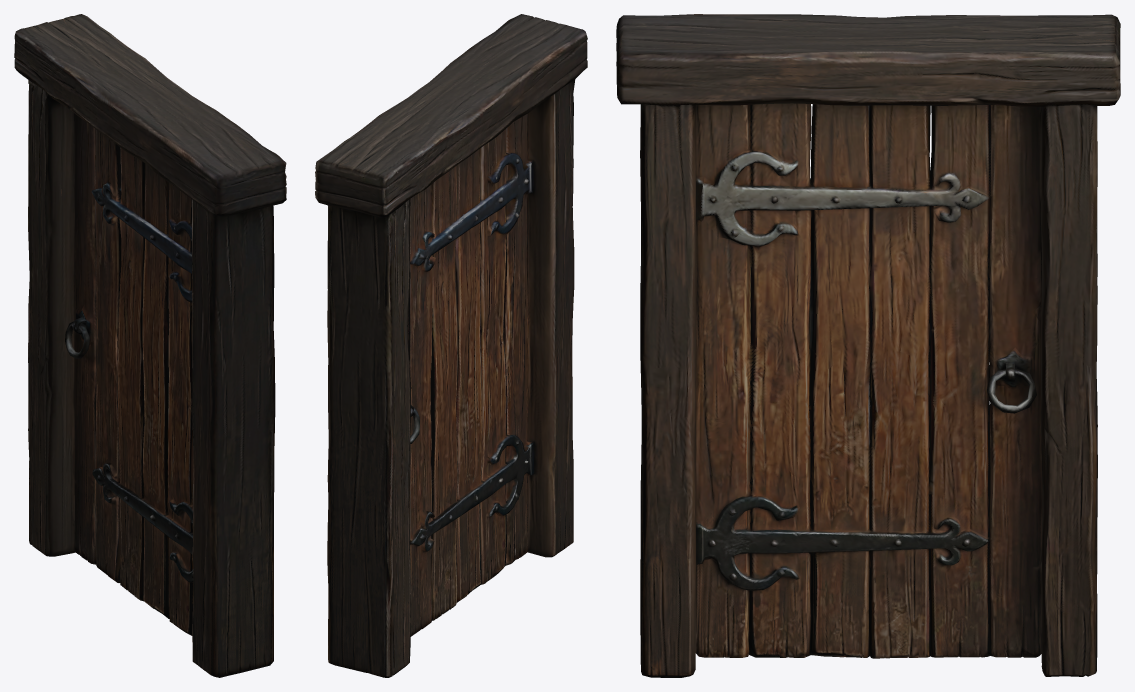
The picture shows the model from 3 angles, left to right: view 1: azimuth 30°, elevation 25°; view 2: azimuth 150°, elevation 25°; view 3: azimuth 270°, elevation 25°; orthographic projection. The views are drawn at different scales.
Parts seen in each view (by area): view 1: tripo_node_a57a8a21-6eb7-43ff-99a2-83a37652b803; view 2: tripo_node_a57a8a21-6eb7-43ff-99a2-83a37652b803; view 3: tripo_node_a57a8a21-6eb7-43ff-99a2-83a37652b803.
Boxes of the visible parts, x1,y1,x2,y2 form: tripo_node_a57a8a21-6eb7-43ff-99a2-83a37652b803: [14, 14, 286, 677]; tripo_node_a57a8a21-6eb7-43ff-99a2-83a37652b803: [315, 14, 587, 677]; tripo_node_a57a8a21-6eb7-43ff-99a2-83a37652b803: [616, 14, 1120, 677].
Bounding box in the file's own units: 0.1456 × 0.9792 × 0.7155.
1 material, 1 textured.
